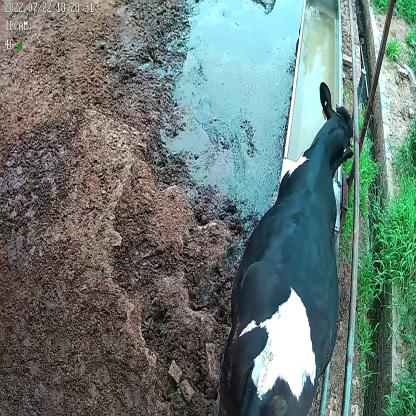cow: (218, 80, 355, 414)
